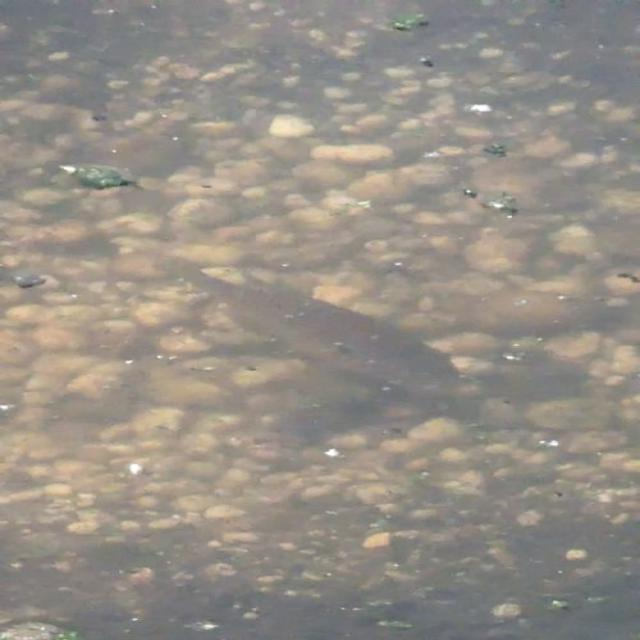Gunes Levregi: (148, 243, 486, 402)
